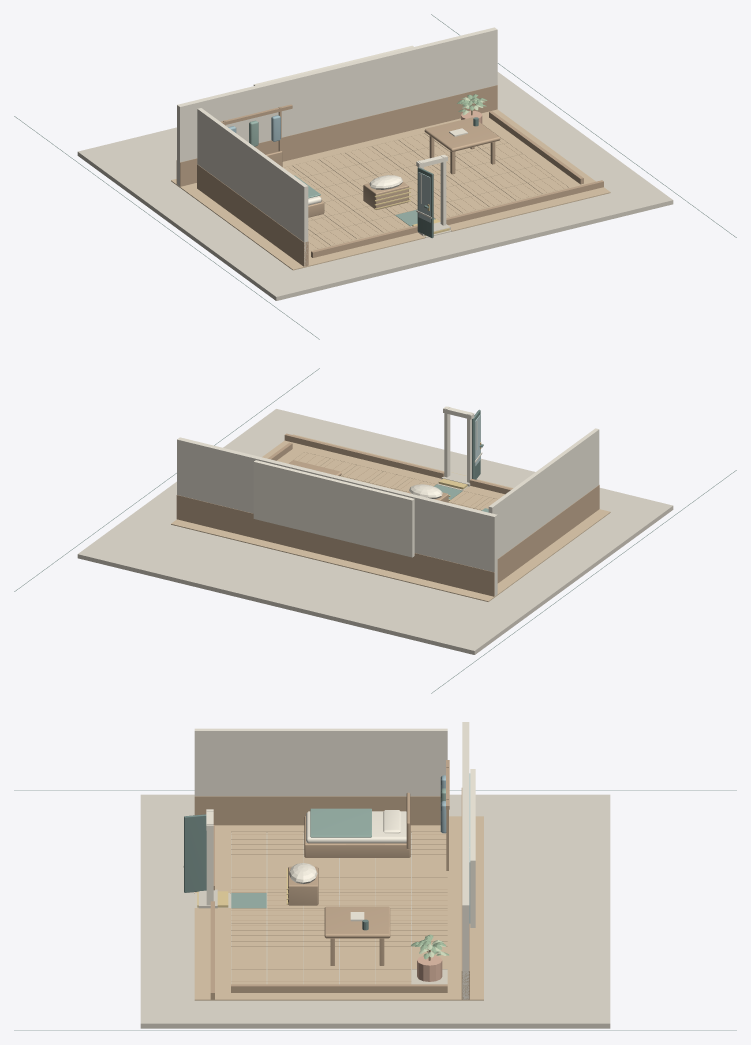
The model's file is room.glb.
3 views of the same model, one above another, from view 1: azimuth 30°, elevation 25°; view 2: azimuth 150°, elevation 25°; view 3: azimuth 270°, elevation 25° (orthographic). The views are drawn at different scales.
Visible parts, largest first — view 1: building slab, cutaway wall, wall foundation, wainscot, mattress, surrounding corridor seam, ground.054, cold glass; view 2: building slab, cutaway wall, wainscot, mattress, wall foundation, surrounding corridor seam; view 3: building slab, wall foundation, cutaway wall, wainscot, mattress, surrounding corridor seam, ground.054, terracotta planter.
Boxes of the visible parts, x1=… form: building slab: x1=77, y1=72, x2=673, y2=300; cutaway wall: x1=177, y1=27, x2=497, y2=266; wall foundation: x1=171, y1=109, x2=610, y2=270; wainscot: x1=176, y1=85, x2=603, y2=266; mattress: x1=253, y1=45, x2=467, y2=225; surrounding corridor seam: x1=14, y1=14, x2=736, y2=339; ground.054: x1=249, y1=120, x2=435, y2=226; cold glass: x1=418, y1=172, x2=430, y2=222; building slab: x1=77, y1=409, x2=673, y2=654; cutaway wall: x1=177, y1=428, x2=599, y2=595; wainscot: x1=176, y1=433, x2=599, y2=596; mattress: x1=253, y1=406, x2=482, y2=557; wall foundation: x1=171, y1=434, x2=610, y2=601; surrounding corridor seam: x1=14, y1=368, x2=736, y2=693; building slab: x1=140, y1=794, x2=610, y2=1028; wall foundation: x1=194, y1=816, x2=483, y2=1000; cutaway wall: x1=194, y1=722, x2=469, y2=999; wainscot: x1=194, y1=760, x2=469, y2=999; mattress: x1=183, y1=769, x2=475, y2=927; surrounding corridor seam: x1=14, y1=790, x2=736, y2=1030; ground.054: x1=231, y1=788, x2=445, y2=908; terracotta planter: x1=417, y1=955, x2=442, y2=981.
Size of what is drawn, in the model's own units: 12.62 by 2.45 by 16.
